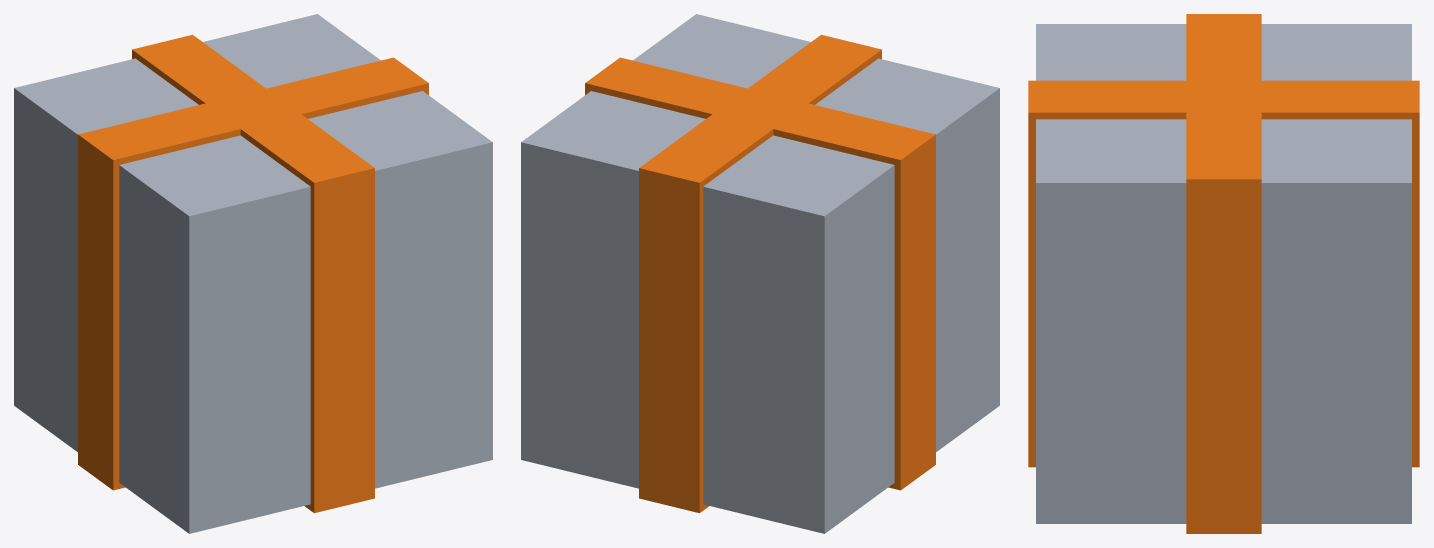
The model's file is lunar-supply-crate.glb.
The picture shows the model from 3 angles, left to right: view 1: azimuth 30°, elevation 25°; view 2: azimuth 150°, elevation 25°; view 3: azimuth 270°, elevation 25°; orthographic projection. The views are drawn at different scales.
Parts seen in each view (by area): view 1: supply_crate; view 2: supply_crate; view 3: supply_crate.
Boxes of the visible parts, x1,y1,x2,y2 form: supply_crate: (14, 14, 492, 533); supply_crate: (521, 14, 999, 533); supply_crate: (1028, 14, 1419, 533).
Size of the model in its own units: 1.04 by 1.04 by 1.04.
